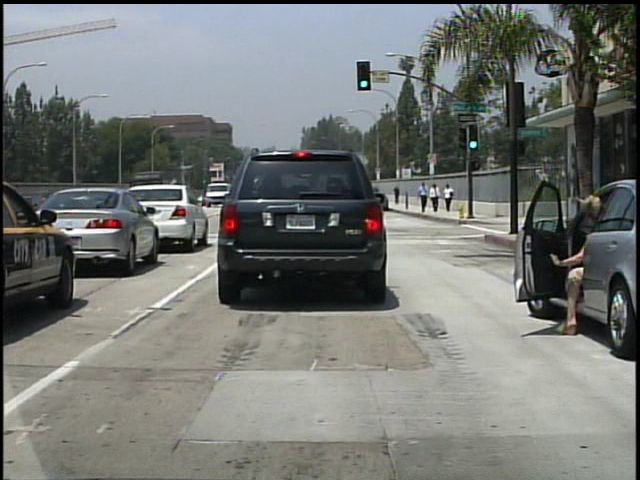person: (548, 178, 612, 333), (418, 180, 429, 213), (443, 183, 455, 213), (431, 183, 442, 213), (393, 184, 402, 206)
